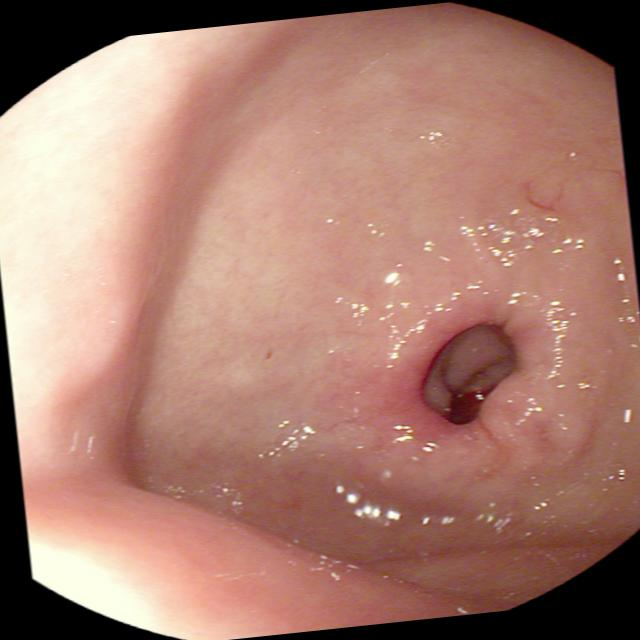normal-pylorus: (319, 151, 610, 527)
